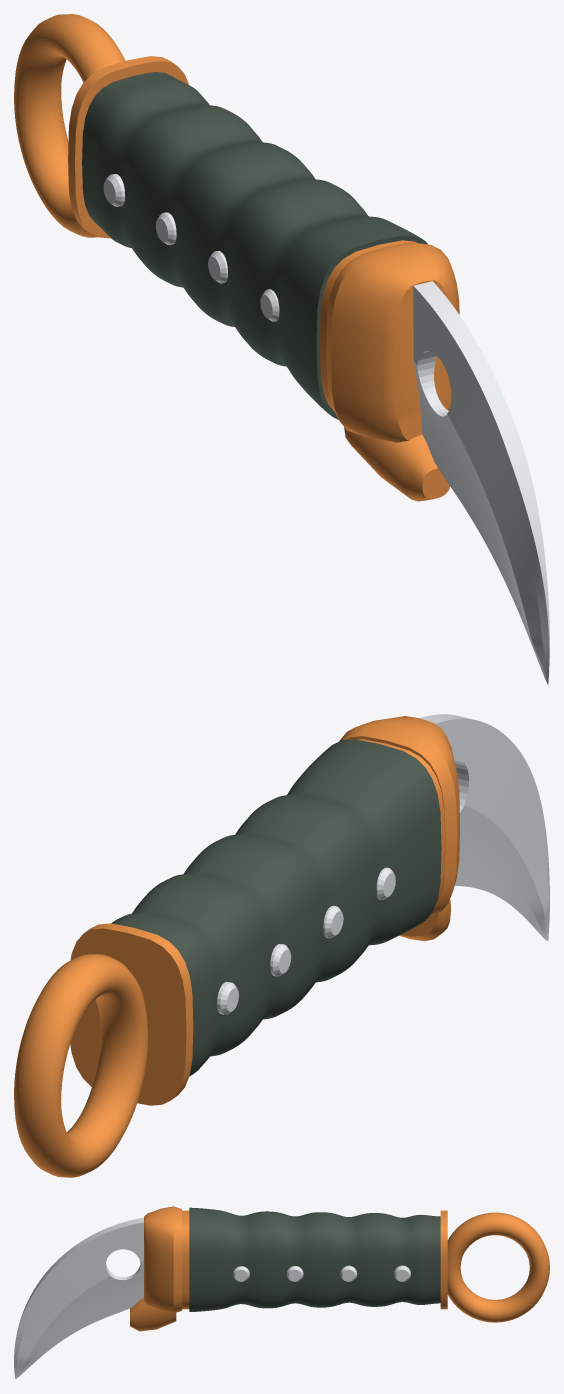
The model's file is Karambit.glb.
3 renders of one model, top to bottom at view 1: azimuth 30°, elevation 25°; view 2: azimuth 150°, elevation 25°; view 3: azimuth 270°, elevation 25°, orthographic. The views are drawn at different scales.
Parts seen in each view (by area): view 1: Karambit; view 2: Karambit; view 3: Karambit.
Boxes of the visible parts, x1,y1,x2,y2 form: Karambit: (14,14,549,685); Karambit: (14,714,549,1177); Karambit: (14,1206,549,1379).
Size of the model in its own units: 0.0265 by 0.0651 by 0.1897.
